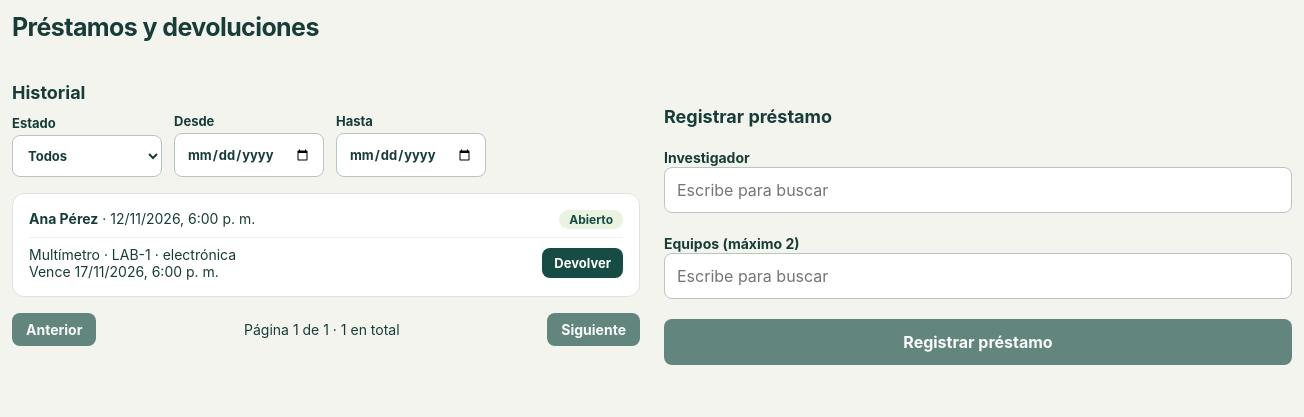
returns a line and reports the duplicate-return conflict
Expected: the text "Ana Pérez" is shown, [29,210,98,227]
Click the button with aria-label "Devolver Multímetro" at (583, 263), box [542,248,623,278]
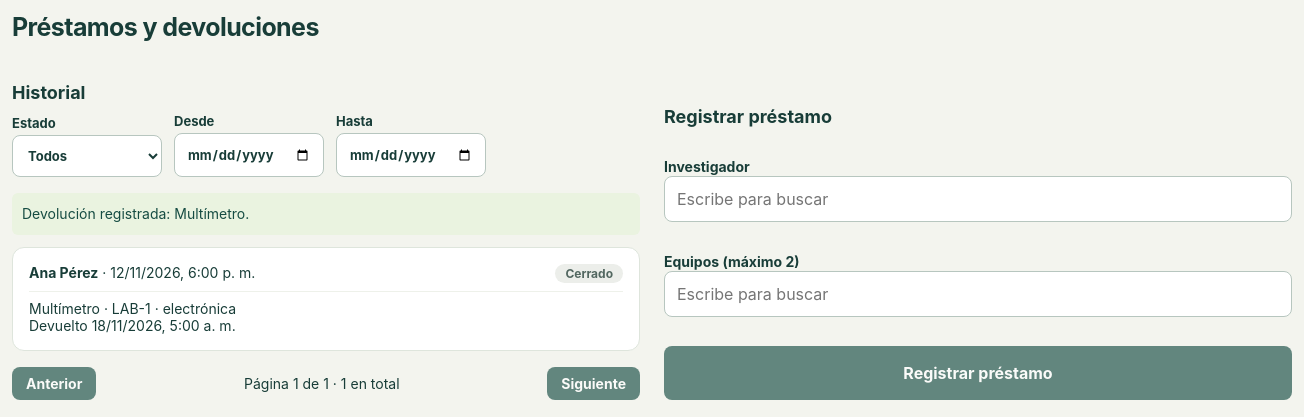
Expected: the text "Devolución registrada: Multímetro." is shown, [12,193,640,235]
Expected: the text "Cerrado" is shown, [555,264,623,283]
